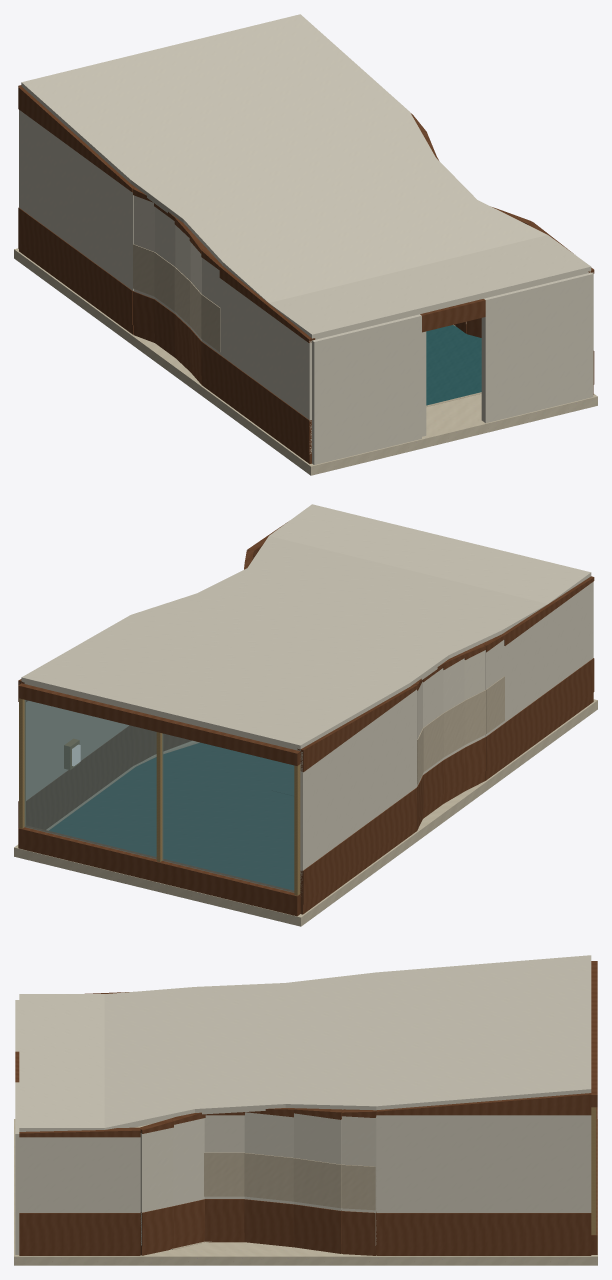
Rendered from shell.glb.
3 views of the same model, one above another, from view 1: azimuth 30°, elevation 25°; view 2: azimuth 150°, elevation 25°; view 3: azimuth 270°, elevation 25° (orthographic).
Parts seen in each view (by area): view 1: SUI_Runtime_ivory_enamel, SUI_Runtime_warm_walnut, SUI_Runtime_warm_stone, SUI_Runtime_oatmeal_weave, SUI_Runtime_teal_weave; view 2: SUI_Runtime_ivory_enamel, SUI_Runtime_warm_walnut, SUI_Runtime_SuiteHospitalityGlass, SUI_Runtime_teal_weave, SUI_Runtime_warm_stone, SUI_Runtime_oatmeal_weave, SUI_Runtime_champagne_metal; view 3: SUI_Runtime_ivory_enamel, SUI_Runtime_warm_walnut, SUI_Runtime_warm_stone, SUI_Runtime_oatmeal_weave, SUI_Runtime_champagne_metal.
Part boxes in pixels (box(x1,y1,x2,y2)): SUI_Runtime_ivory_enamel: box(19, 14, 593, 464); SUI_Runtime_warm_walnut: box(18, 85, 594, 463); SUI_Runtime_warm_stone: box(14, 248, 597, 475); SUI_Runtime_oatmeal_weave: box(133, 244, 481, 406); SUI_Runtime_teal_weave: box(426, 325, 481, 405); SUI_Runtime_ivory_enamel: box(19, 504, 593, 885); SUI_Runtime_warm_walnut: box(18, 522, 594, 916); SUI_Runtime_SuiteHospitalityGlass: box(24, 700, 294, 892); SUI_Runtime_teal_weave: box(49, 743, 293, 890); SUI_Runtime_warm_stone: box(14, 699, 597, 926); SUI_Runtime_oatmeal_weave: box(46, 676, 504, 830); SUI_Runtime_champagne_metal: box(19, 698, 300, 895); SUI_Runtime_ivory_enamel: box(15, 955, 591, 1254); SUI_Runtime_warm_walnut: box(15, 961, 597, 1255); SUI_Runtime_warm_stone: box(14, 1119, 597, 1265); SUI_Runtime_oatmeal_weave: box(170, 1152, 375, 1249); SUI_Runtime_champagne_metal: box(591, 1107, 596, 1234).
Bounding box in the file's own units: 7.2 × 4.26 × 12.9.
Materials: 8 (6 with a texture image).
